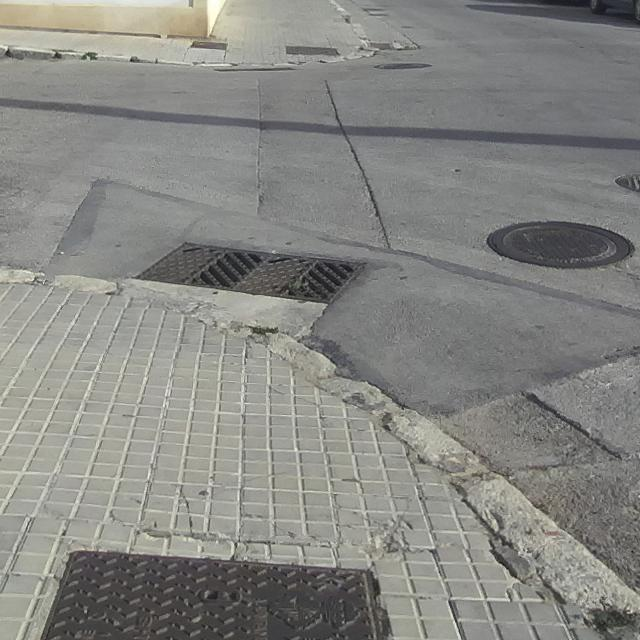calcada_quebrada: (108, 509, 170, 543), (171, 482, 199, 541), (200, 530, 248, 561)
